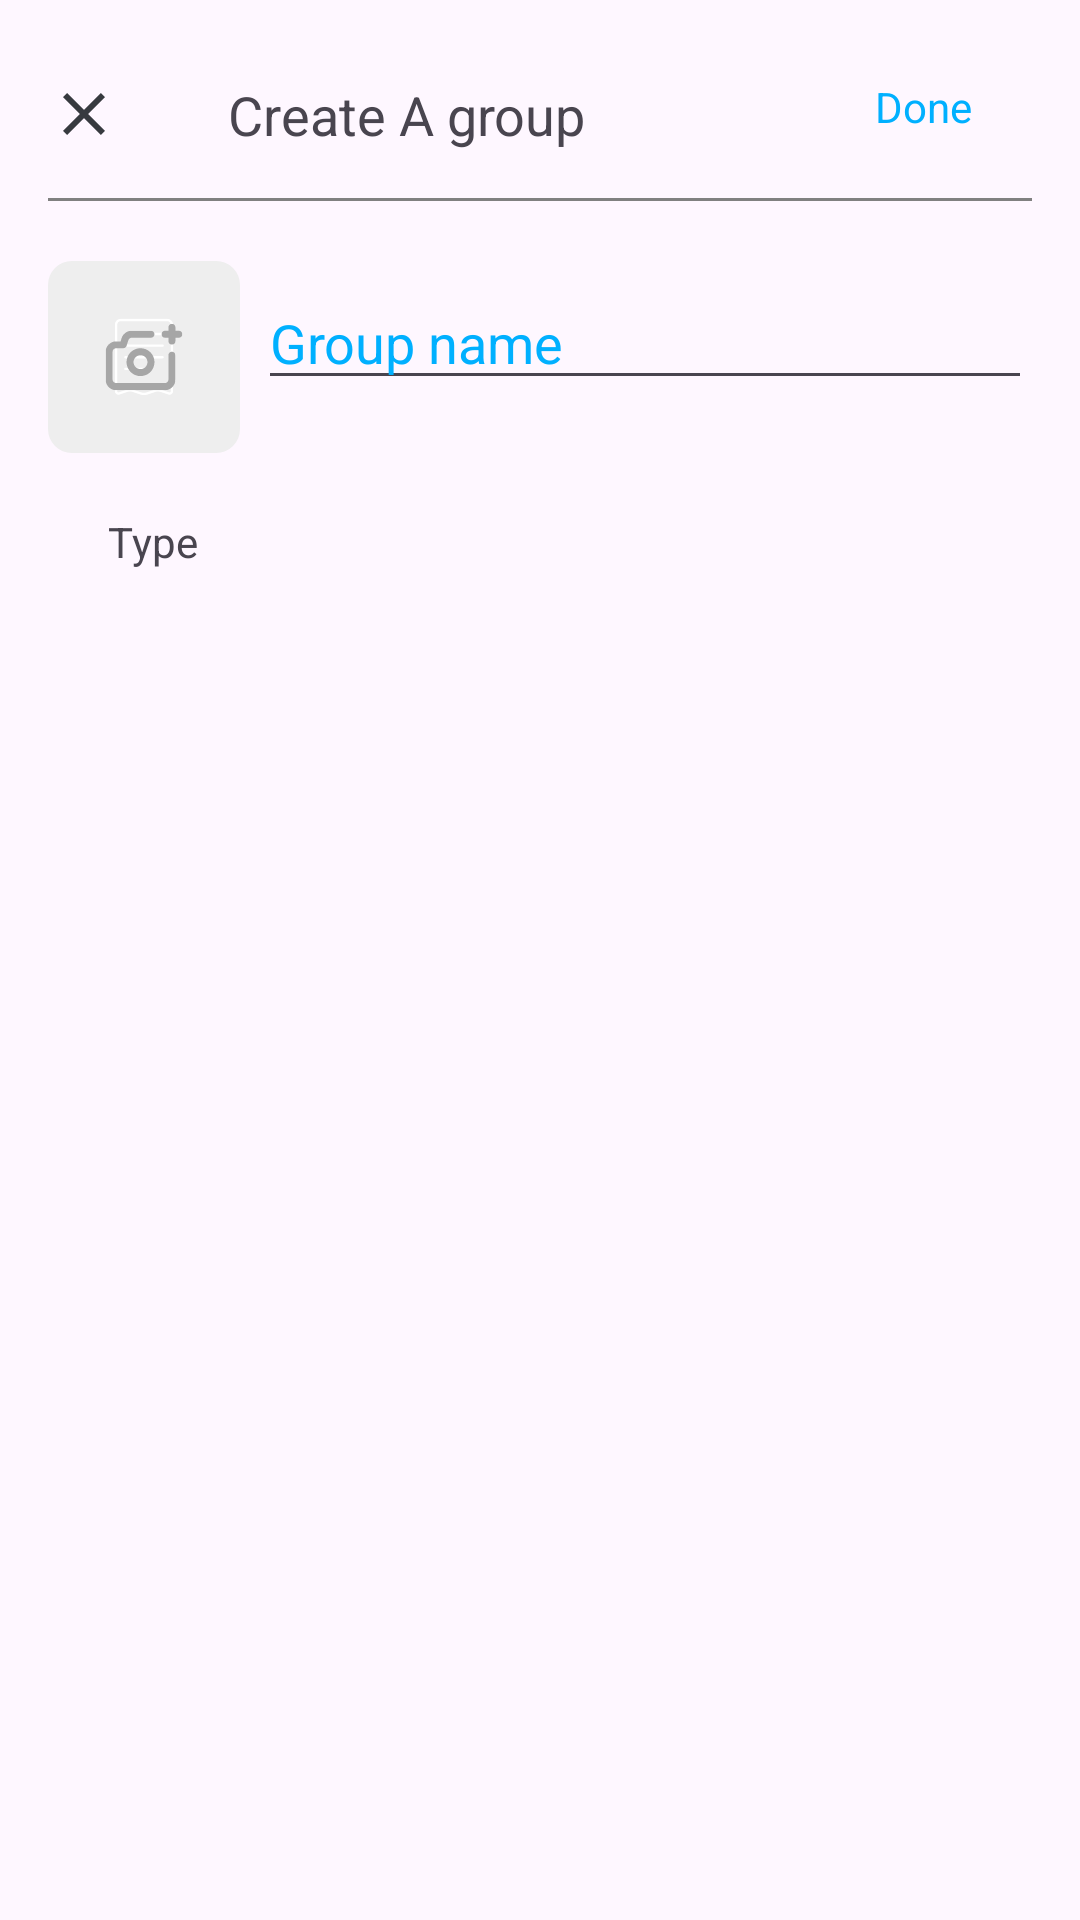

Locate icon controls on the screen. Image size 1080*1920, boxes as {"x1": x1, "y1": y1, "x2": x2, "y2": y2}.
add camera: {"x1": 48, "y1": 261, "x2": 240, "y2": 453}
clear: {"x1": 63, "y1": 93, "x2": 105, "y2": 135}
